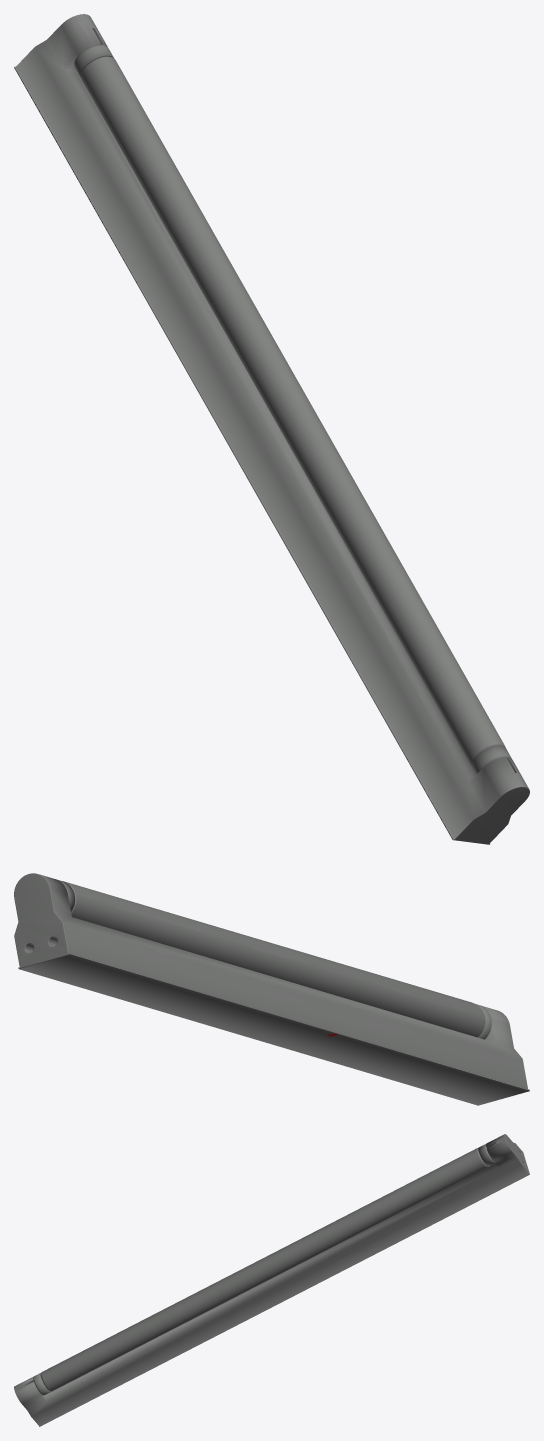
The model's file is neon-light.fbx.
3 renders of one model, top to bottom at view 1: azimuth 30°, elevation 25°; view 2: azimuth 150°, elevation 25°; view 3: azimuth 270°, elevation 25°, orthographic. The views are drawn at different scales.
Parts seen in each view (by area): view 1: node_id4; view 2: node_id4; view 3: node_id4.
Boxes of the visible parts, x1=… form: node_id4: x1=14, y1=14, x2=529, y2=844; node_id4: x1=14, y1=873, x2=529, y2=1105; node_id4: x1=14, y1=1134, x2=529, y2=1426.
Size of the model in its own units: 0.0382 by 0.2934 by 0.4682.
1 material, 1 textured.
